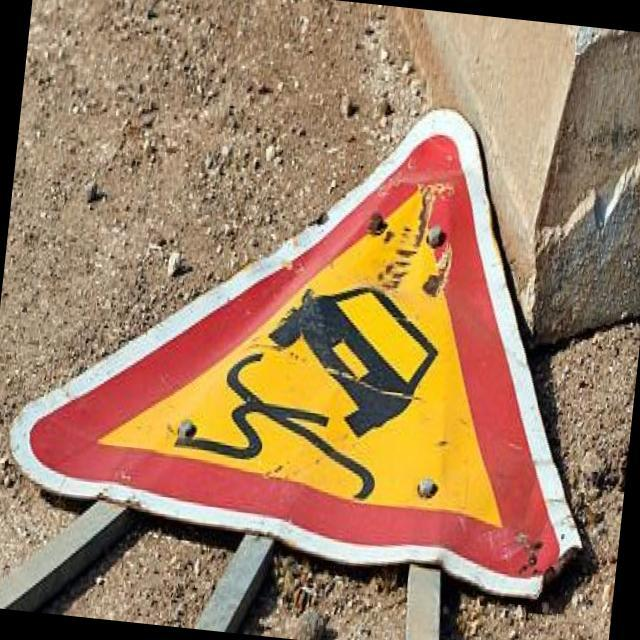obstructed_road_sign: (10, 109, 581, 598)
